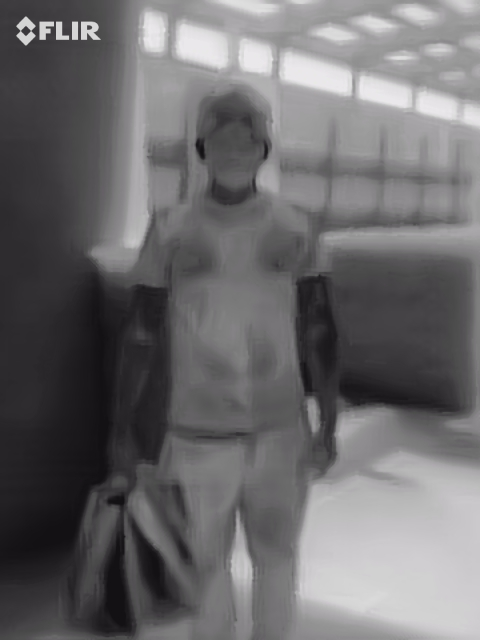head: (195, 80, 271, 192)
